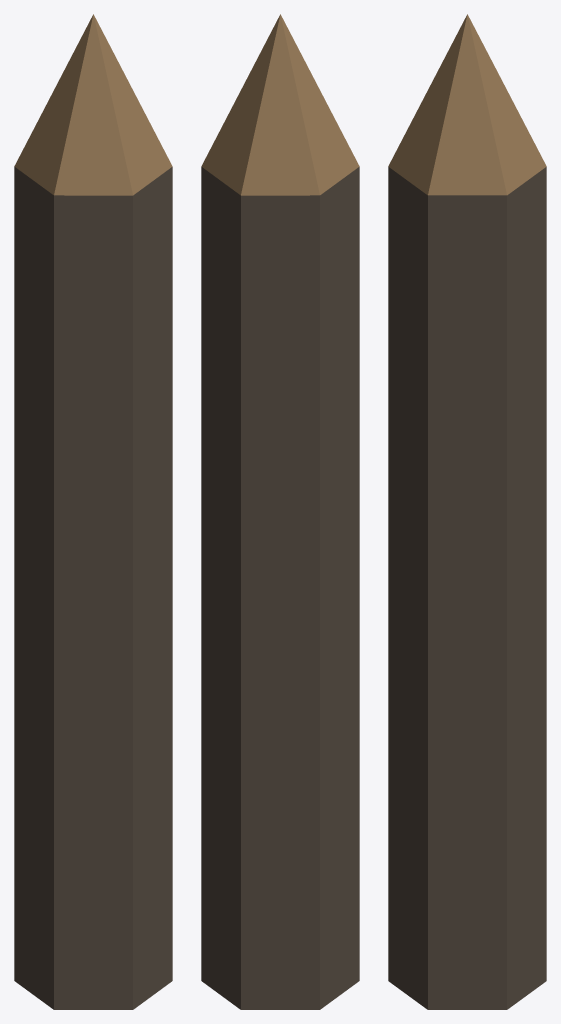
File: Wooden_Spear_07.fbx
The picture shows the model from 3 angles, left to right: view 1: azimuth 30°, elevation 25°; view 2: azimuth 150°, elevation 25°; view 3: azimuth 270°, elevation 25°; orthographic projection.
Visible parts, largest first — view 1: Wooden_Spear; view 2: Wooden_Spear; view 3: Wooden_Spear.
Boxes of the visible parts, x1,y1,x2,y2 form: Wooden_Spear: [14, 14, 172, 1009]; Wooden_Spear: [201, 14, 359, 1009]; Wooden_Spear: [388, 14, 546, 1009].
Size of the model in its own units: 6.4 by 49.83 by 7.41.
